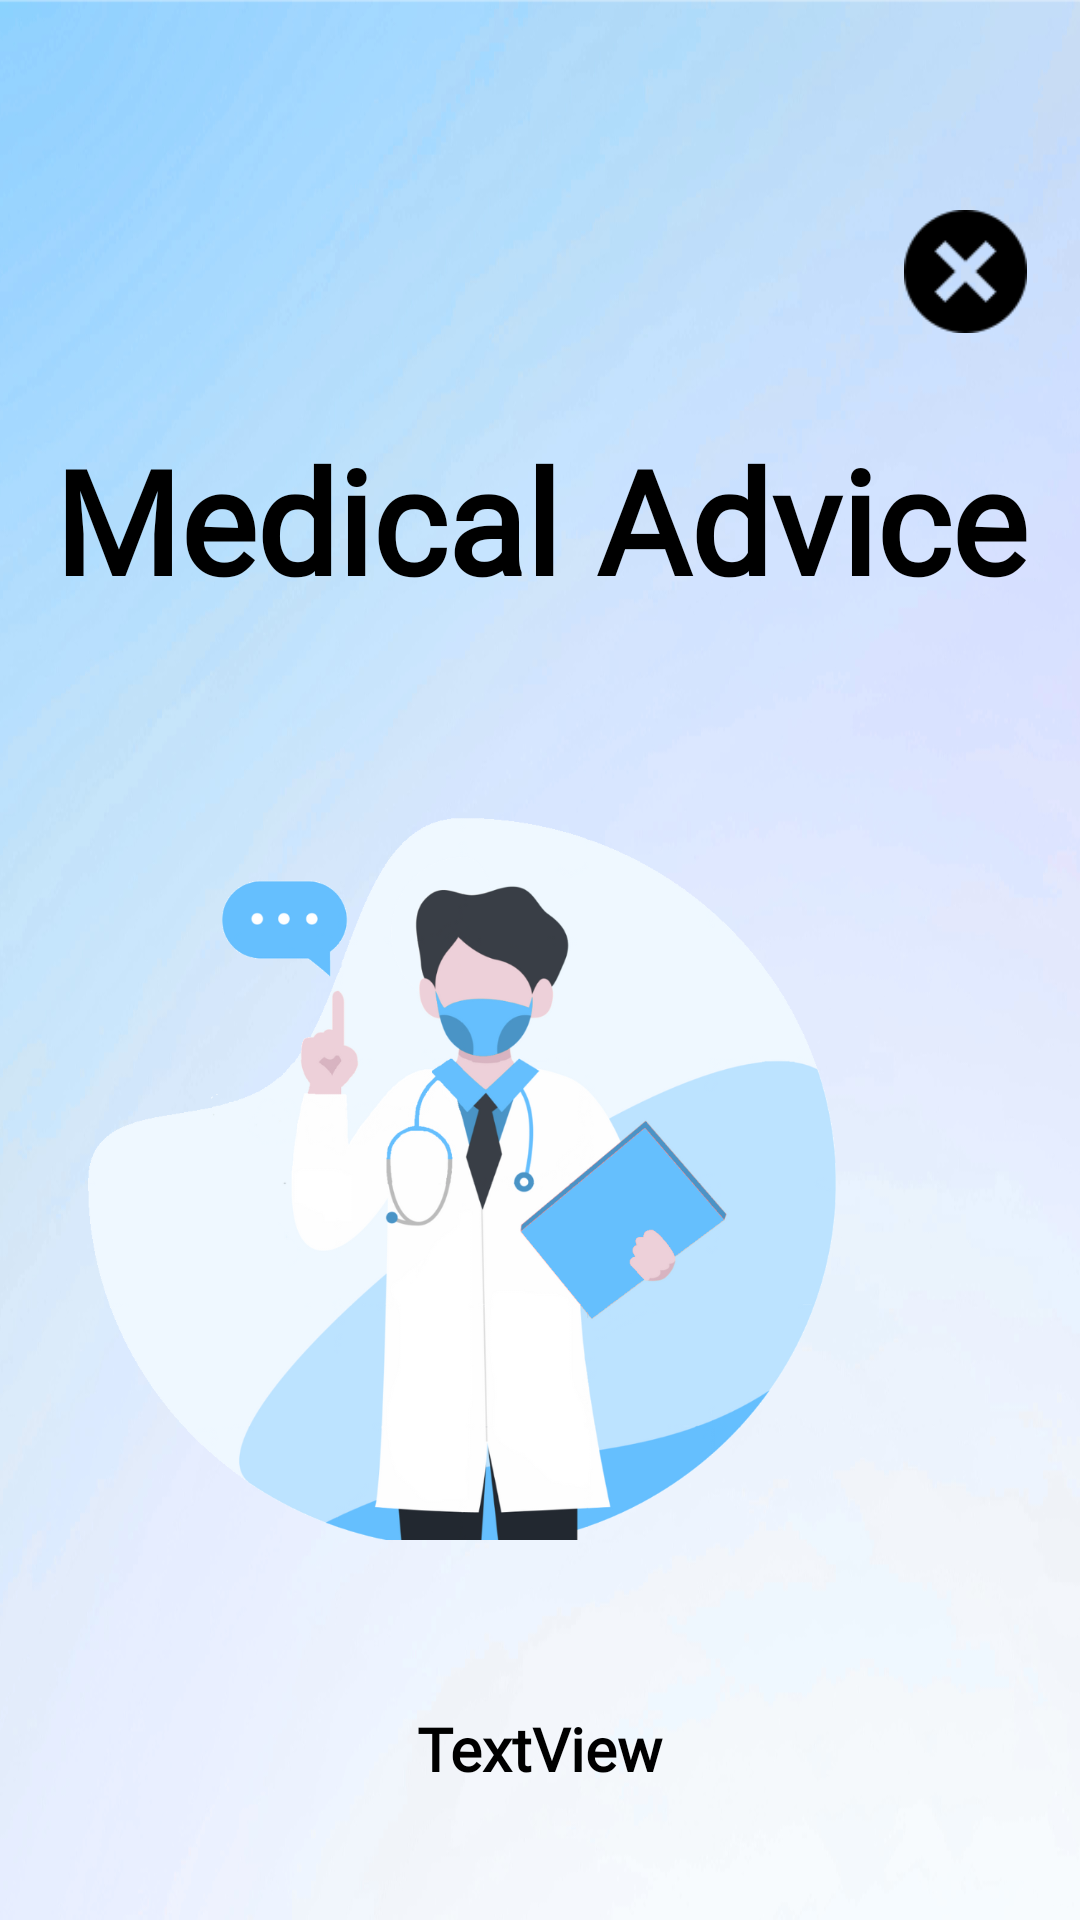

Point at icon controls on the screen. Image size 1080px x 1920px, points as [x,y].
cancel: [965,271]
